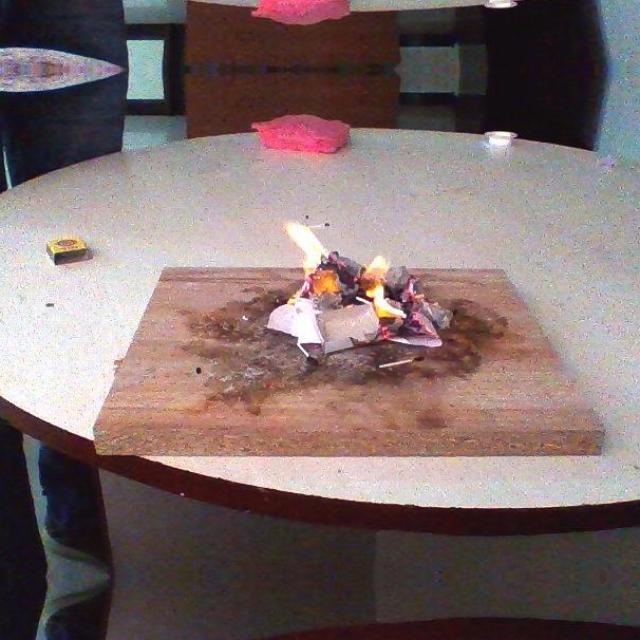smoke: (284, 221, 341, 294), (360, 255, 410, 320)
